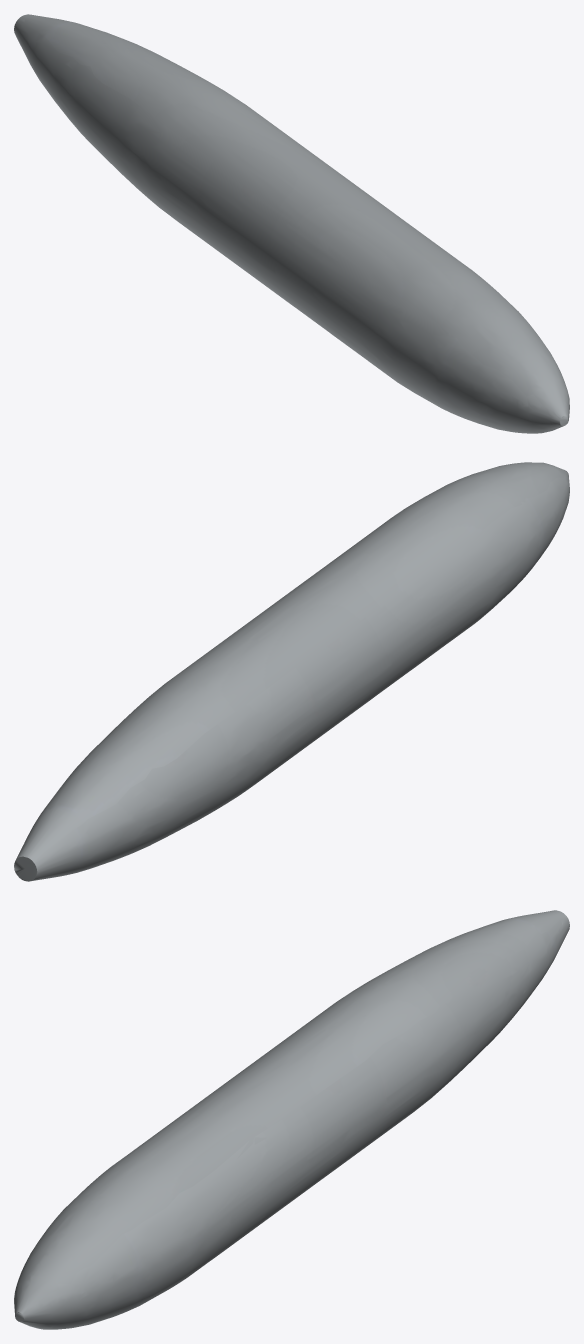
The model's file is j10tank1600l.glb.
The picture shows the model from 3 angles, top to bottom: view 1: azimuth 30°, elevation 25°; view 2: azimuth 150°, elevation 25°; view 3: azimuth 330°, elevation 25°; orthographic projection.
Parts seen in each view (by area): view 1: airframe; view 2: airframe; view 3: airframe.
Part boxes in pixels (x1=…): airframe: x1=14, y1=14, x2=569, y2=433; airframe: x1=14, y1=462, x2=569, y2=881; airframe: x1=14, y1=910, x2=569, y2=1329.
Size of the model in its own units: 0.7218 by 0.7216 by 5.77.
1 material, 1 textured.
